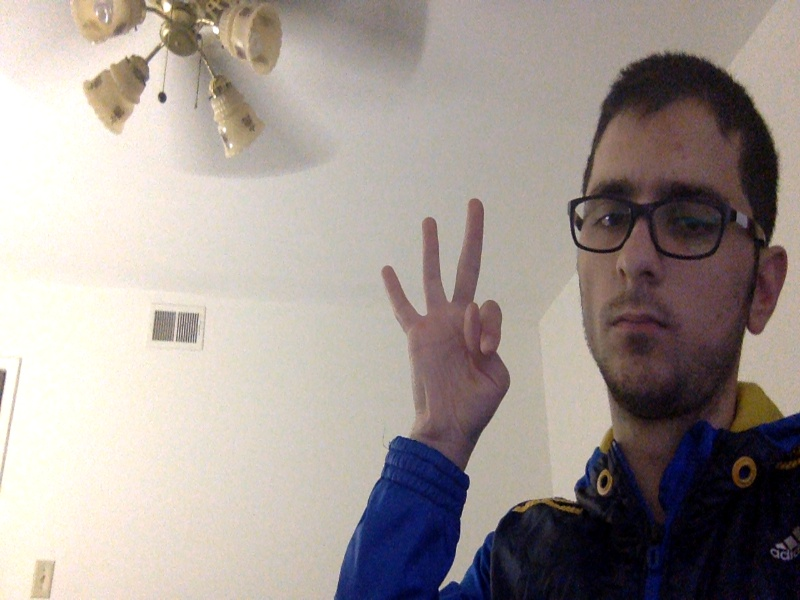3-hand: (383, 199, 513, 438)
